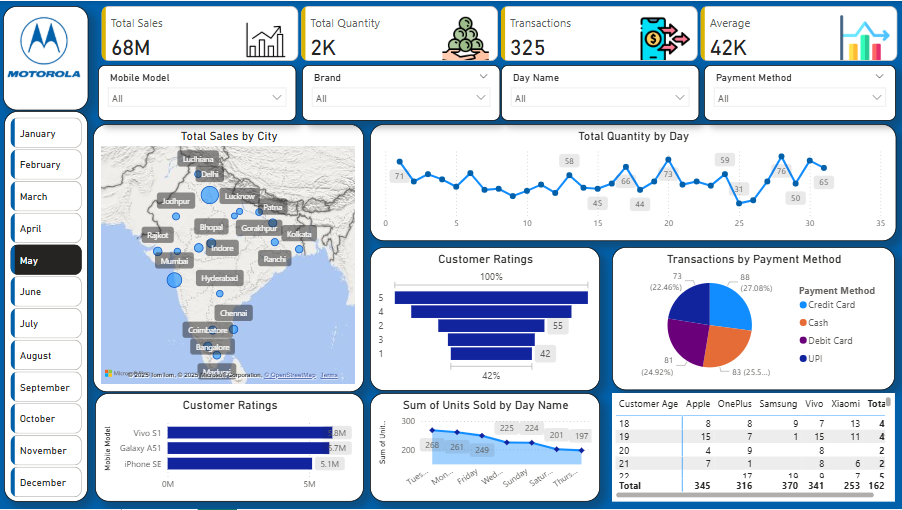

The dashboard page shown, as its layout file describes it:
{"tool":"powerbi","page":{"name":"Page 1","canvas":[1280,720],"ordinal":0},"visuals":[{"type":"shape","box":[5.5,6.9,120.8,148.2],"z":0},{"type":"image","box":[7.1,7.1,113.4,116.2],"z":1000},{"type":"shape","box":[6.9,156.4,119.4,554.4],"z":2000},{"type":"advancedSlicerVisual","fields":{"Values":["Sales_Data.Date.Variation.Date Hierarchy.Month"]},"box":[11,160.5,111.1,548.9],"z":3000},{"type":"cardVisual","fields":{"Data":["Sales_Data.Total Sales","Sales_Data.Total Quantity","Sales_Data.Transactions","Sales_Data.Average"]},"box":[140.3,7.1,1139.5,83.6],"z":4000},{"type":"map","fields":{"Category":["Sales_Data.City"],"Size":["Sales_Data.Total Sales"]},"box":[133.2,174.3,384.1,379.8],"z":5000},{"type":"lineChart","fields":{"Y":["Sales_Data.Total Quantity"],"Category":["Sales_Data.Date.Variation.Date Hierarchy.Month","Sales_Data.Date.Variation.Date Hierarchy.Day"]},"box":[525.8,174.3,745.5,165.8],"z":6000},{"type":"pieChart","fields":{"Category":["Sales_Data.Payment Method"],"Y":["Sales_Data.Transactions"]},"box":[868.8,348.7,401.1,202.7],"z":7000},{"type":"funnel","title":"Customer Ratings","fields":{"Category":["Sales_Data.Customer Ratings"],"Y":["CountNonNull(Sales_Data.Customer Ratings)"]},"box":[525.8,348.7,326,204.1],"z":8000},{"type":"barChart","title":"Customer Ratings","fields":{"Category":["Sales_Data.Mobile Model"],"Y":["Sales_Data.Total Sales"]},"box":[136.1,555.6,381.3,154.5],"z":8001},{"type":"areaChart","fields":{"Category":["Sales_Data.Day Name"],"Y":["Sum(Sales_Data.Units Sold)"]},"box":[525.8,555.6,326,154.5],"z":8002},{"type":"slicer","fields":{"Values":["Sales_Data.Mobile Model"]},"box":[140.3,90.7,280.6,79.4],"z":8004},{"type":"slicer","fields":{"Values":["Sales_Data.Brand"]},"box":[429.4,90.7,280.6,79.4],"z":8005},{"type":"slicer","fields":{"Values":["Sales_Data.Day Name"]},"box":[711.5,90.7,280.6,79.4],"z":8006},{"type":"slicer","fields":{"Values":["Sales_Data.Payment Method"]},"box":[999.2,90.7,272.1,79.4],"z":8007},{"type":"pivotTable","fields":{"Rows":["Sales_Data.Customer Age"],"Columns":["Sales_Data.Brand"],"Values":["Sum(Sales_Data.Units Sold)"]},"box":[869,556,401,154],"z":8008}]}

Visuals, with their boxes in screenshot pixels (x1, y1, x2, y2), scaled from the page's 1280x720 canvas onto the 902x510 screenshot:
shape: [4,5,89,110]
image: [5,5,85,87]
shape: [5,111,89,503]
advancedSlicerVisual - Sales_Data.Date.Variation.Date Hierarchy.Month: [8,114,86,502]
cardVisual - Sales_Data.Total Sales x Sales_Data.Total Quantity: [99,5,901,64]
map - Sales_Data.City x Sales_Data.Total Sales: [94,123,365,392]
lineChart - Sales_Data.Total Quantity x Sales_Data.Date.Variation.Date Hierarchy.Month: [371,123,896,241]
pieChart - Sales_Data.Payment Method x Sales_Data.Transactions: [612,247,895,391]
"Customer Ratings" funnel: [371,247,600,392]
"Customer Ratings" barChart: [96,394,365,503]
areaChart - Sales_Data.Day Name x Sum(Sales_Data.Units Sold): [371,394,600,503]
slicer - Sales_Data.Mobile Model: [99,64,297,120]
slicer - Sales_Data.Brand: [303,64,500,120]
slicer - Sales_Data.Day Name: [501,64,699,120]
slicer - Sales_Data.Payment Method: [704,64,896,120]
pivotTable - Sales_Data.Customer Age x Sales_Data.Brand: [612,394,895,503]
